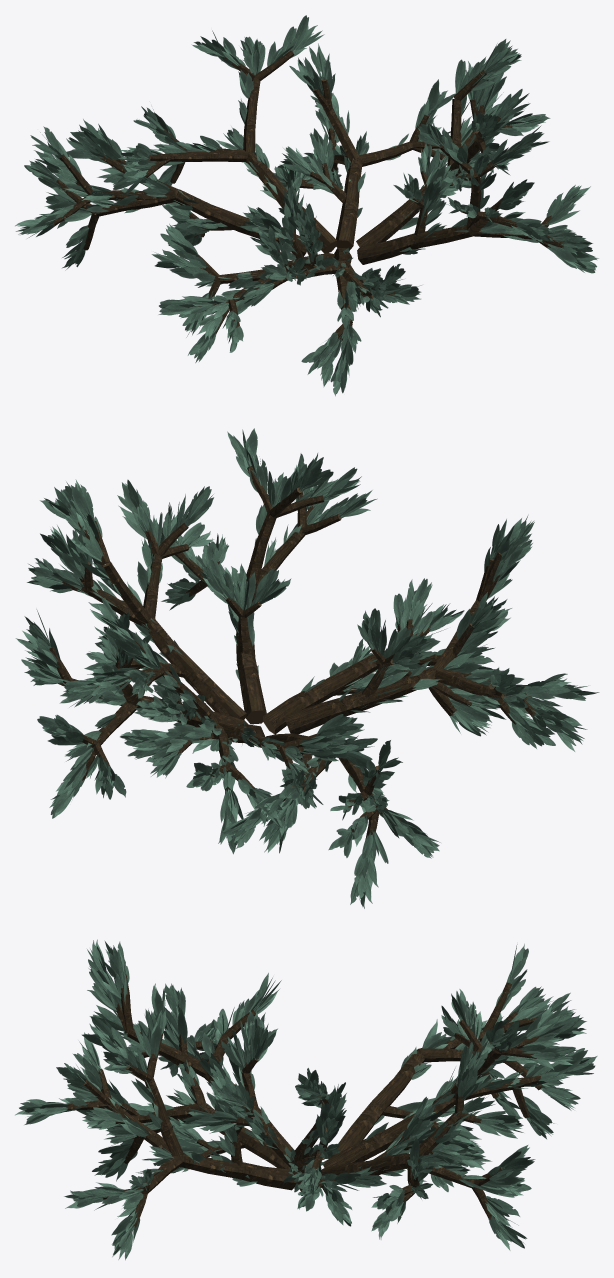
Rendered from juniper_low_v01.glb.
3 renders of one model, top to bottom at view 1: azimuth 30°, elevation 25°; view 2: azimuth 150°, elevation 25°; view 3: azimuth 270°, elevation 25°, orthographic. The views are drawn at different scales.
Parts seen in each view (by area): view 1: juniper_low_v01; view 2: juniper_low_v01; view 3: juniper_low_v01.
Part boxes in pixels (x1,y1,x2,y2): juniper_low_v01: [15, 15, 598, 395]; juniper_low_v01: [15, 428, 599, 908]; juniper_low_v01: [15, 939, 597, 1260].
Size of the model in its own units: 1.06 by 0.5352 by 1.09.
Materials: 2 (2 with a texture image).
